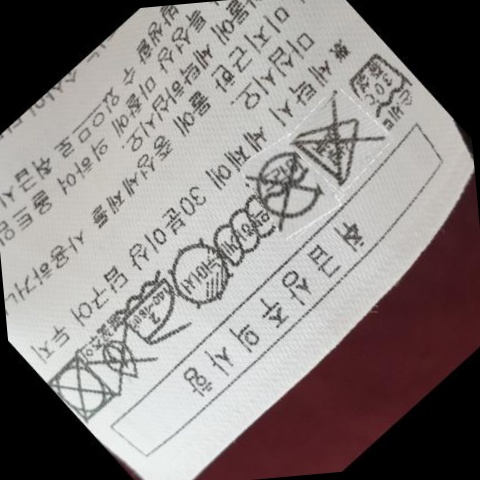DN_dry_clean: (256, 150, 320, 226)
DN_tumble_dry: (56, 347, 113, 426)
dry_flat_in_shade: (176, 240, 233, 312)
hand_wash: (357, 57, 422, 131)
iron_medium: (123, 275, 187, 351)
non_chlorine_bleach: (300, 107, 372, 181)
wring: (212, 197, 278, 272)
